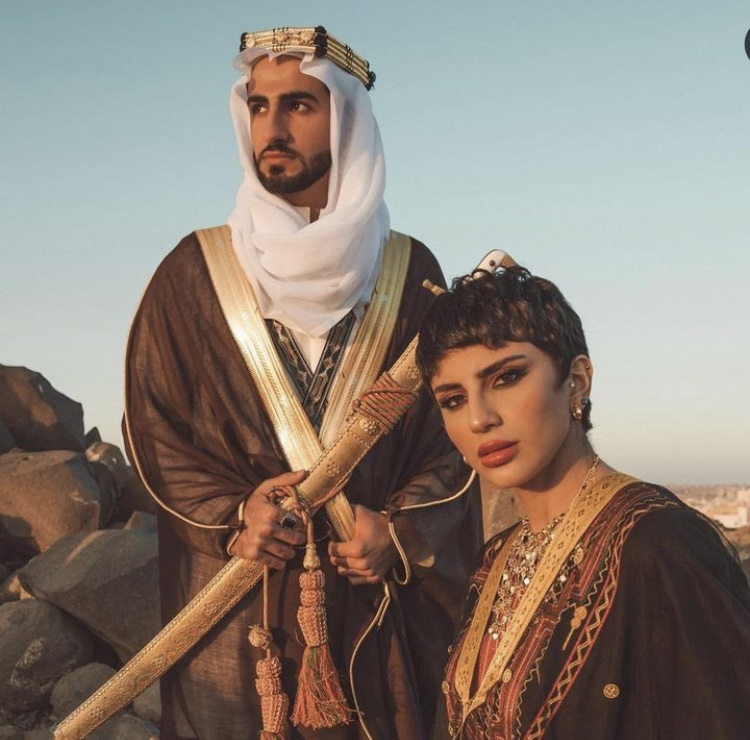Saudi_Founding_Day: (117, 20, 490, 740), (415, 267, 750, 738)
